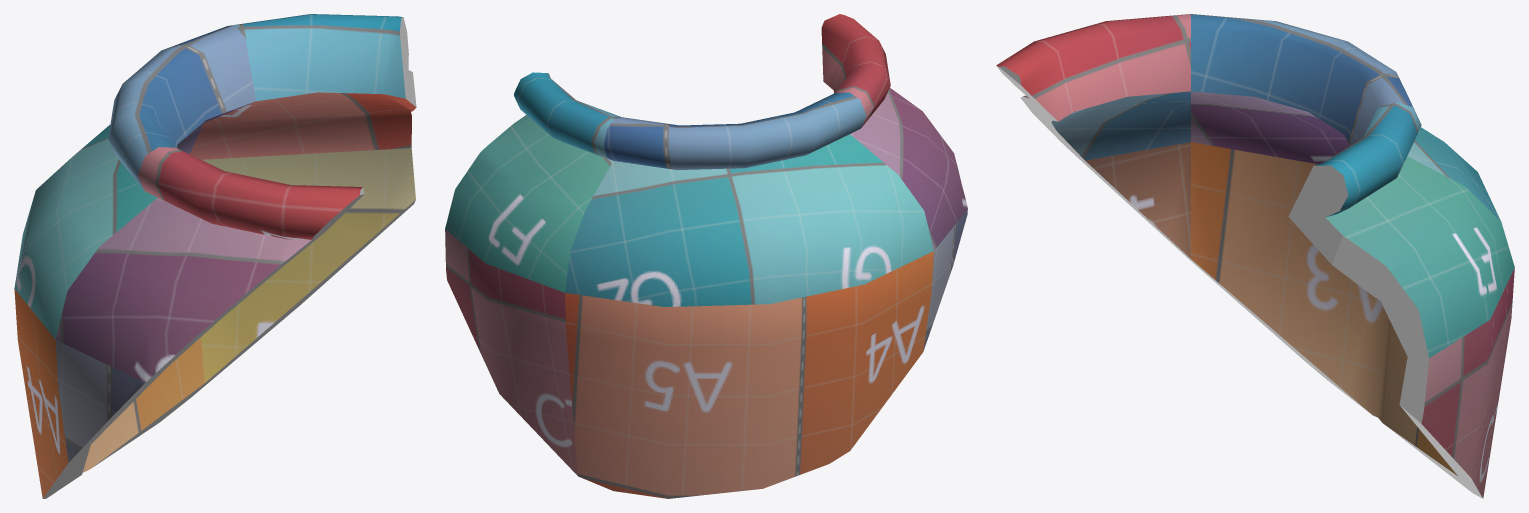
File: MediumUrn_SHAT_cell_004.fbx
3 views of the same model, side by side, from view 1: azimuth 30°, elevation 25°; view 2: azimuth 150°, elevation 25°; view 3: azimuth 270°, elevation 25° (orthographic). The views are drawn at different scales.
Parts seen in each view (by area): view 1: MediumUrn_SHAT_cell_004; view 2: MediumUrn_SHAT_cell_004; view 3: MediumUrn_SHAT_cell_004.
Part boxes in pixels (x1,y1,x2,y2): MediumUrn_SHAT_cell_004: (14, 14, 416, 498); MediumUrn_SHAT_cell_004: (445, 14, 967, 498); MediumUrn_SHAT_cell_004: (996, 14, 1514, 498).
Size of the model in its own units: 0.9455 by 0.7893 by 0.907.
Materials: 2 (1 with a texture image).
